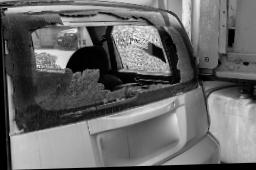Windshield: (1, 1, 199, 94)
